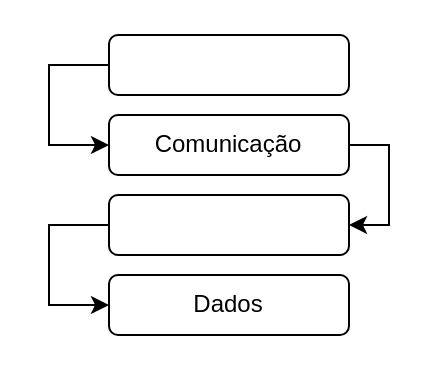
The diagram is 440 pixels wide and 370 high, and some of its shapes have lost their labels. The centre of each missing label's shape, as x and y in pixels:
Interface com o Usuário (GUI): pixel 228 64
Negócios: pixel 228 224
